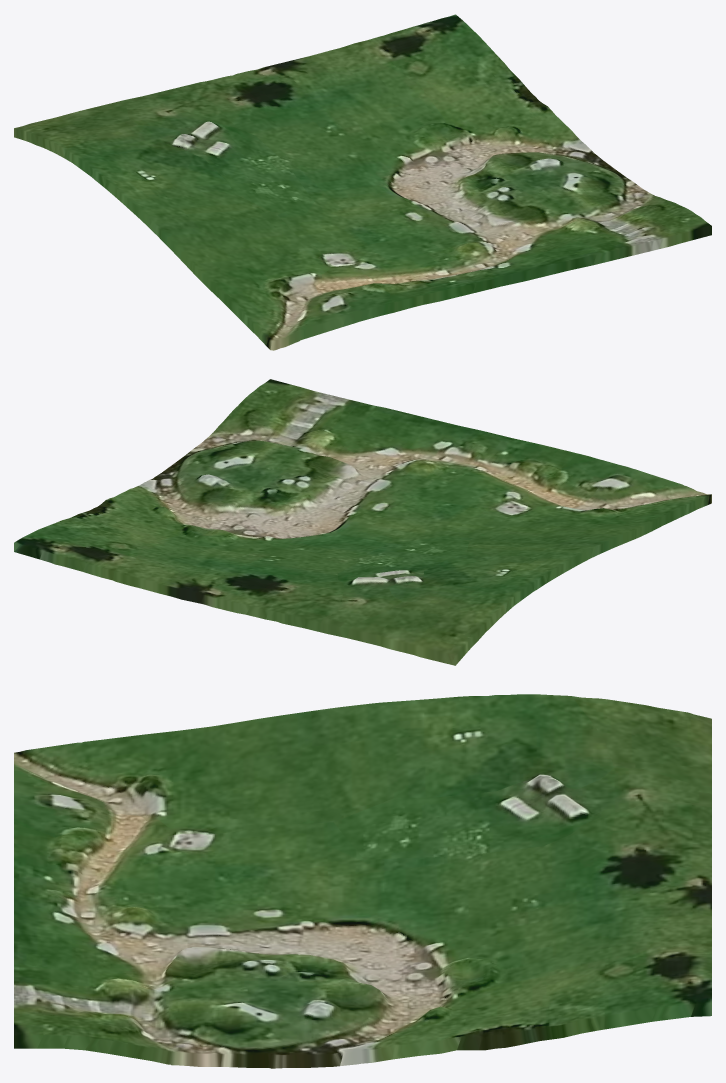
File: z20-167767-405193-h0-yup-uvflip-v3-world.glb
The picture shows the model from 3 angles, top to bottom: view 1: azimuth 30°, elevation 25°; view 2: azimuth 150°, elevation 25°; view 3: azimuth 270°, elevation 25°; orthographic projection. The views are drawn at different scales.
Bounding box in the file's own units: 30.16 × 3.88 × 30.32.
1 material, 1 textured.
